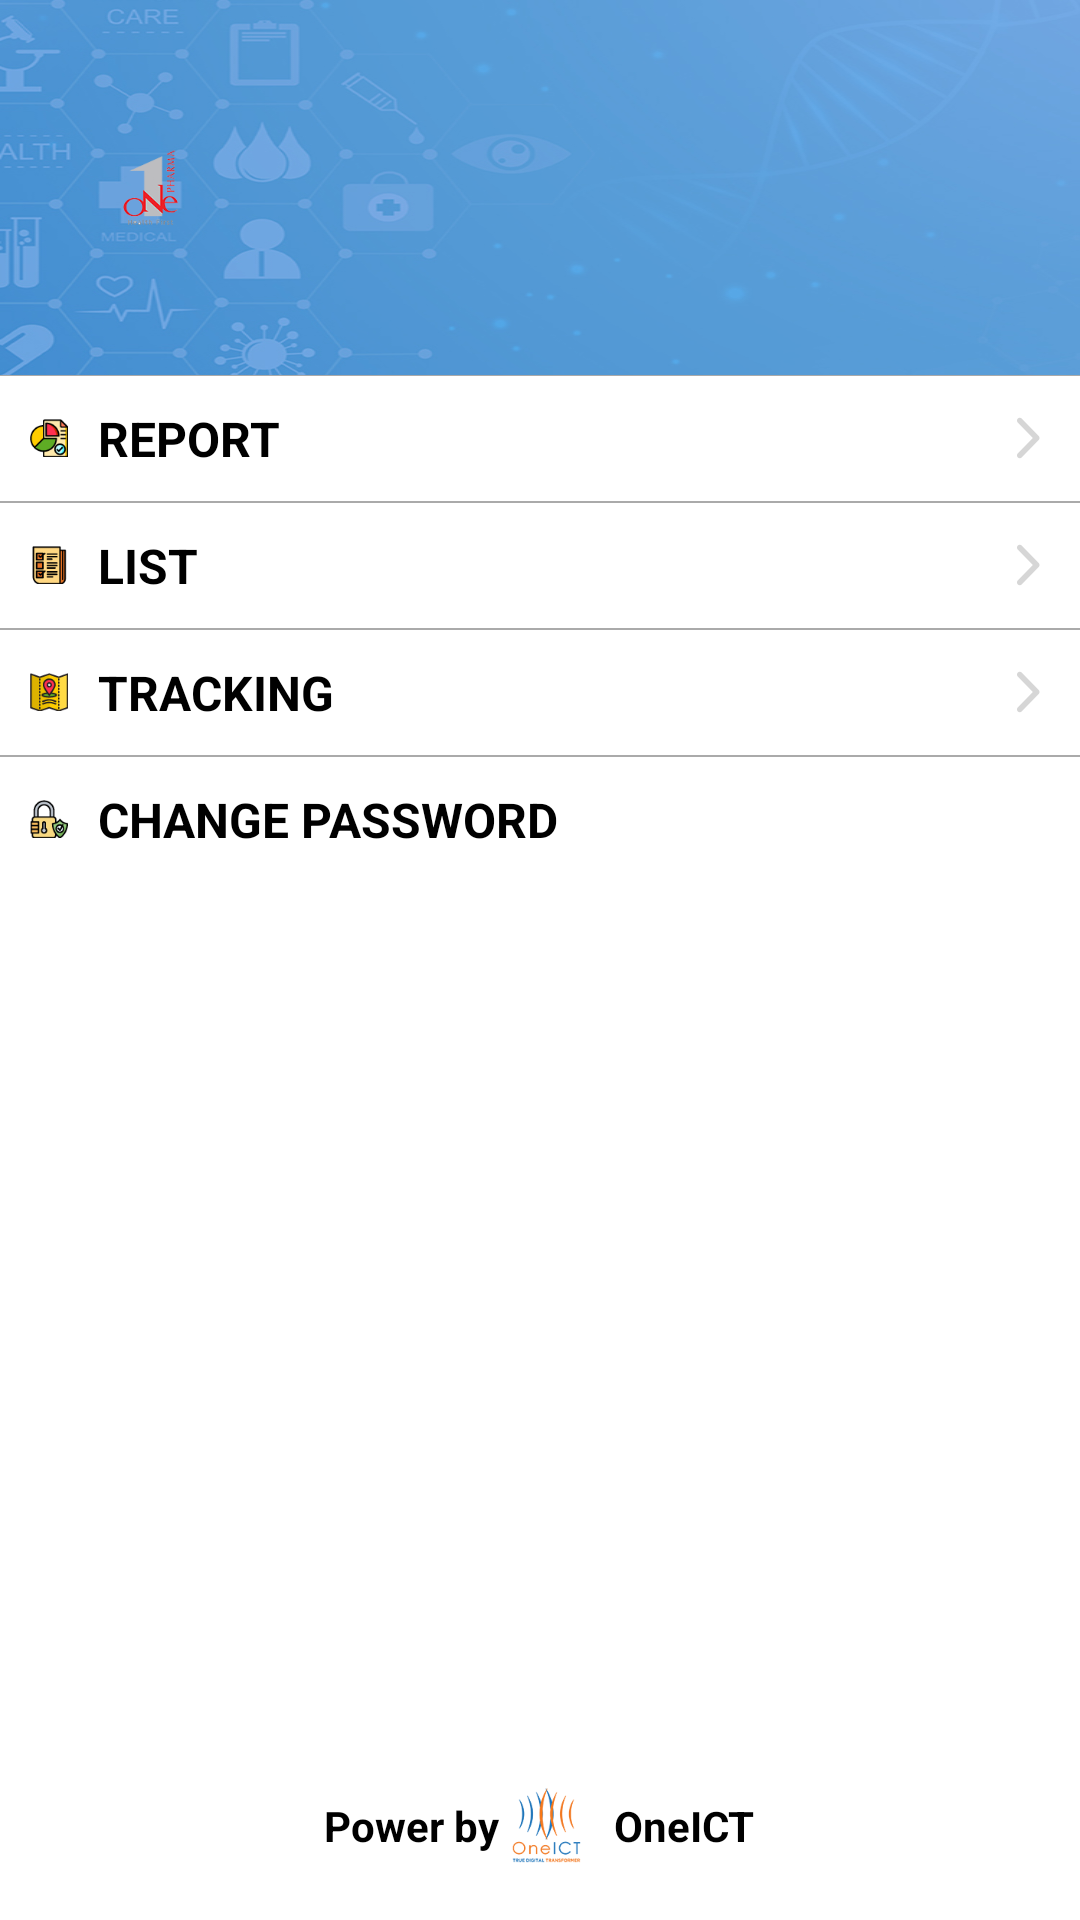

Icon click points for this 1080*1920 phone screenshot, format point (x, y):
right arrow: point (1028, 438), point (1028, 565), point (1028, 692)
